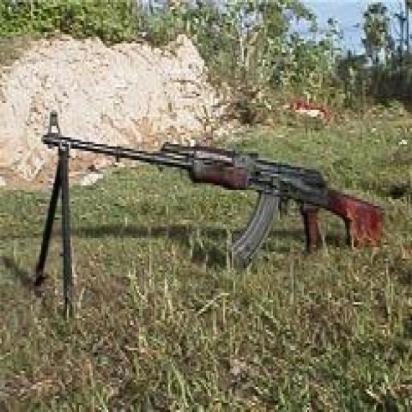Gun: (43, 131, 384, 262)
